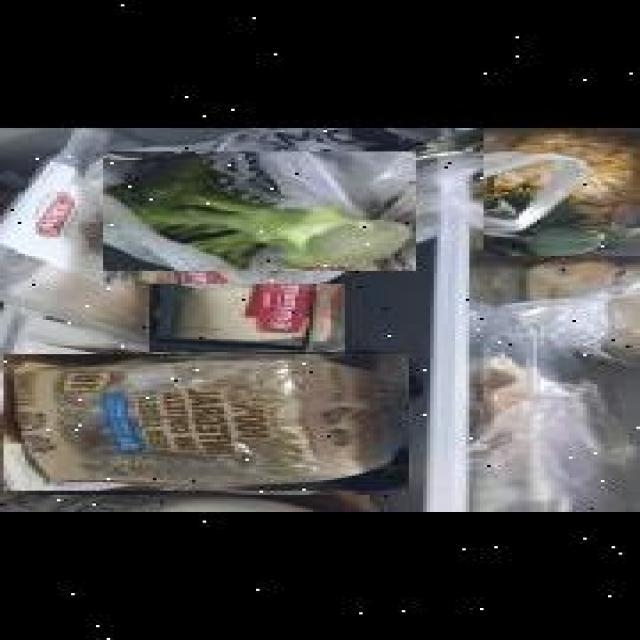bread: (0, 354, 402, 491)
broccoli: (100, 152, 412, 272)
cheese: (146, 285, 342, 353)
milk: (0, 495, 363, 512)
pineapple: (480, 128, 640, 256)
